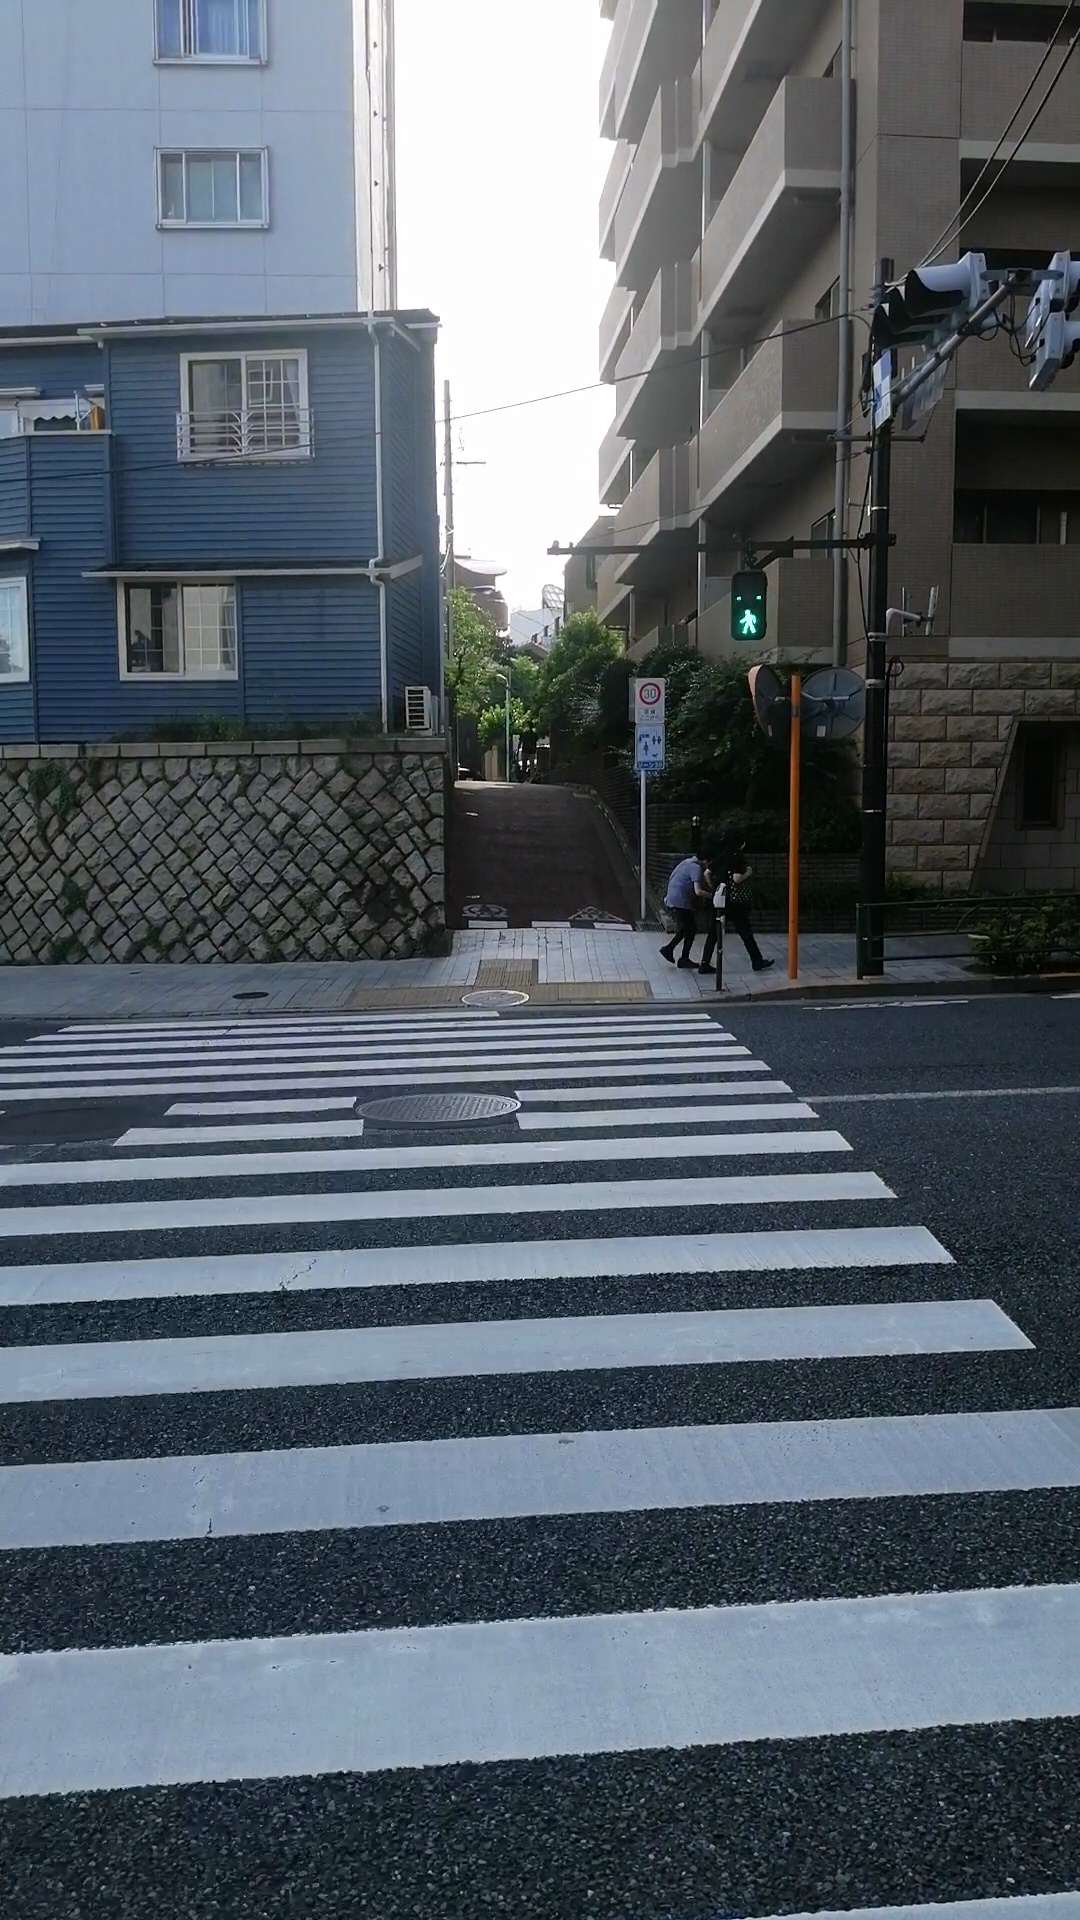green: (731, 570, 766, 641)
